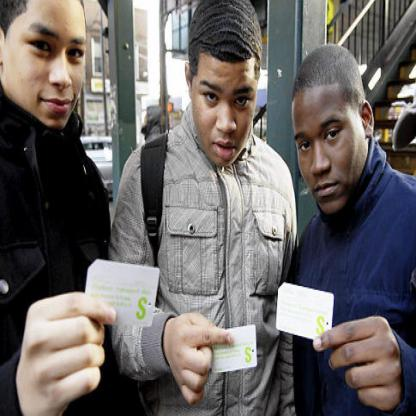face: (14, 9, 90, 126), (192, 50, 257, 167), (299, 97, 357, 211)
